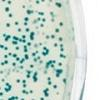Blue_green: (54, 2, 62, 8), (59, 53, 67, 58), (55, 68, 63, 73), (50, 34, 56, 40), (4, 87, 11, 92), (5, 7, 10, 13), (8, 12, 13, 18), (45, 34, 50, 40), (58, 37, 64, 42), (42, 52, 48, 57), (13, 95, 19, 100), (62, 78, 67, 84), (55, 72, 60, 78), (57, 62, 64, 66), (4, 60, 9, 65), (25, 27, 30, 32), (55, 27, 60, 32), (33, 43, 38, 48), (49, 60, 54, 65), (21, 89, 26, 94), (51, 18, 56, 23), (8, 0, 12, 6), (30, 10, 34, 16), (38, 12, 44, 16), (14, 46, 20, 50), (25, 54, 29, 60), (12, 34, 16, 40), (30, 35, 34, 41), (60, 21, 64, 27), (38, 55, 42, 61), (46, 62, 50, 68), (39, 96, 45, 100), (0, 69, 4, 75), (6, 23, 11, 27), (14, 21, 19, 25), (18, 27, 22, 32), (24, 17, 29, 21), (26, 10, 31, 14), (34, 0, 39, 4), (42, 17, 46, 22), (33, 20, 38, 24), (37, 16, 41, 21), (40, 23, 45, 27), (0, 44, 4, 49), (0, 62, 5, 66), (11, 62, 16, 66), (29, 64, 34, 68), (13, 54, 17, 59), (6, 35, 11, 39), (18, 38, 22, 43), (22, 38, 26, 43), (30, 31, 35, 35), (53, 43, 58, 47), (42, 46, 47, 50), (44, 48, 49, 52), (33, 57, 37, 62), (32, 52, 36, 57), (52, 60, 57, 64), (5, 82, 10, 86), (26, 74, 31, 78), (26, 70, 31, 74), (48, 81, 52, 86), (53, 84, 57, 89), (44, 92, 49, 96), (34, 71, 39, 75), (24, 22, 28, 26), (2, 33, 6, 37), (4, 54, 8, 58), (8, 52, 12, 56), (36, 50, 40, 54), (40, 60, 44, 64), (20, 66, 24, 70), (8, 84, 12, 88), (0, 92, 4, 96), (10, 95, 14, 99), (16, 79, 20, 83), (22, 79, 26, 83), (22, 84, 26, 88), (29, 90, 33, 94), (48, 77, 52, 81), (45, 87, 49, 91), (44, 70, 48, 74), (1, 78, 5, 82), (16, 56, 19, 61), (2, 0, 6, 3), (5, 46, 8, 50), (22, 58, 25, 62), (27, 42, 30, 46), (5, 38, 8, 42), (15, 41, 18, 45), (15, 36, 18, 40), (22, 35, 26, 38), (60, 48, 64, 51), (60, 44, 64, 47), (39, 42, 42, 46), (8, 97, 12, 100), (25, 90, 28, 94), (42, 90, 46, 93), (35, 26, 39, 29), (52, 65, 55, 68), (22, 6, 26, 8), (20, 60, 22, 64), (20, 98, 24, 100), (50, 12, 54, 14), (41, 0, 44, 2), (49, 0, 52, 2), (12, 41, 14, 44), (16, 70, 19, 72)
